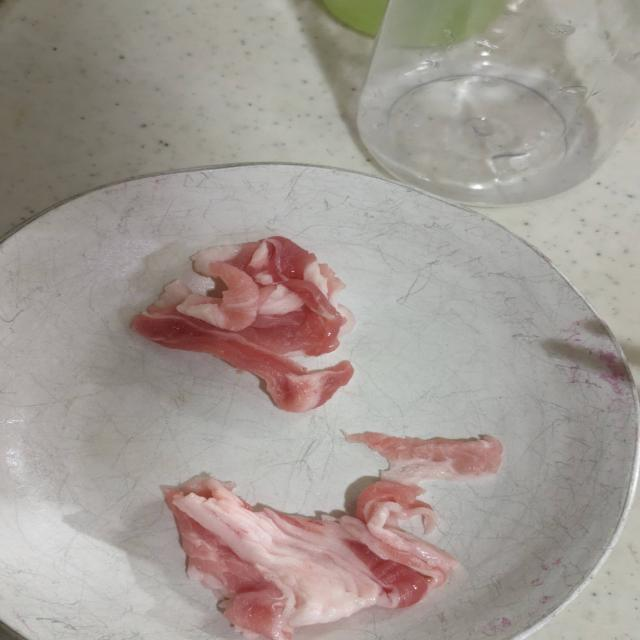NG raw pork,: (152, 426, 512, 640), (97, 229, 361, 428)
